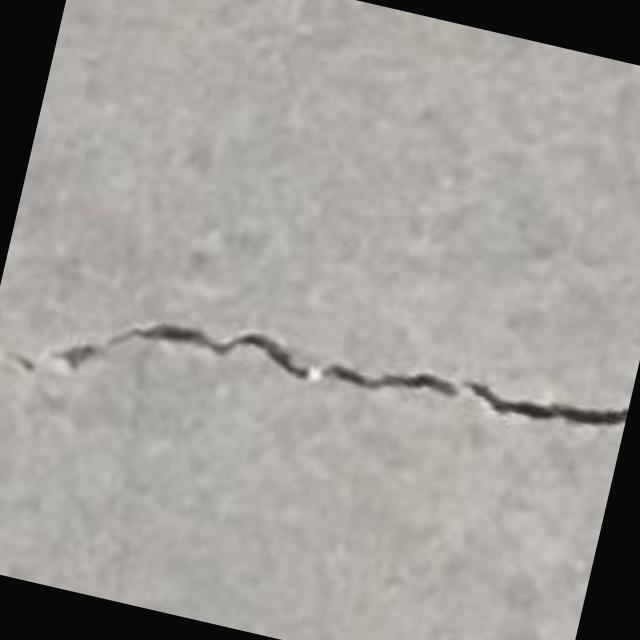crack: (0, 323, 628, 428)
